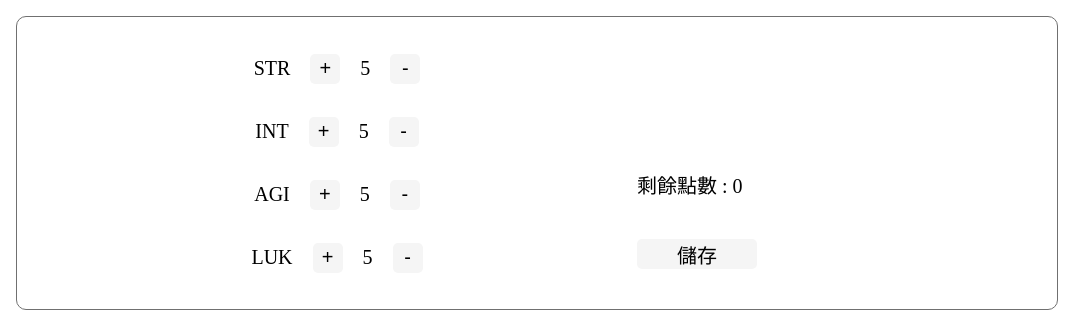
Test: HeroProfile component › 剩餘點數 > 0 不能儲存
Click the button "-" in the row of "STR": x=405, y=68 x1=390 y1=54 x2=420 y2=84
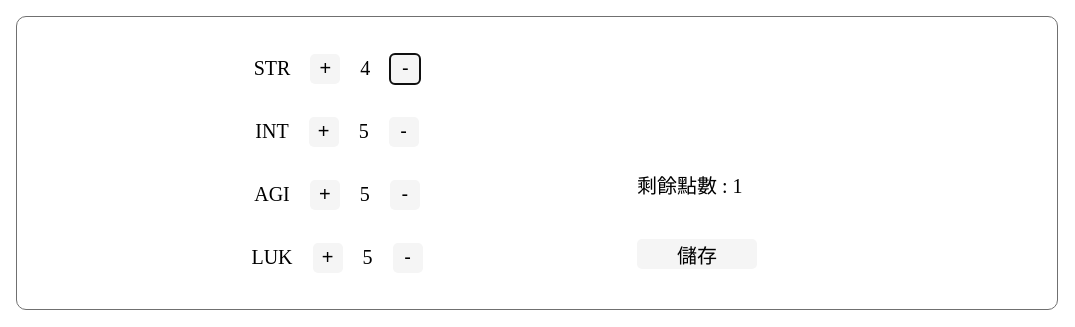
Click the button with test id "save-button": x=697, y=254 x1=637 y1=239 x2=757 y2=269
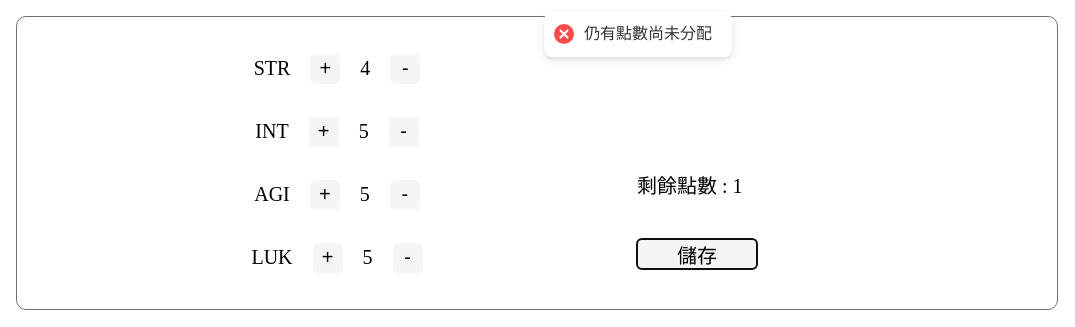
Expected: the text "仍有點數尚未分配" is shown, x1=584 y1=24 x2=712 y2=45
